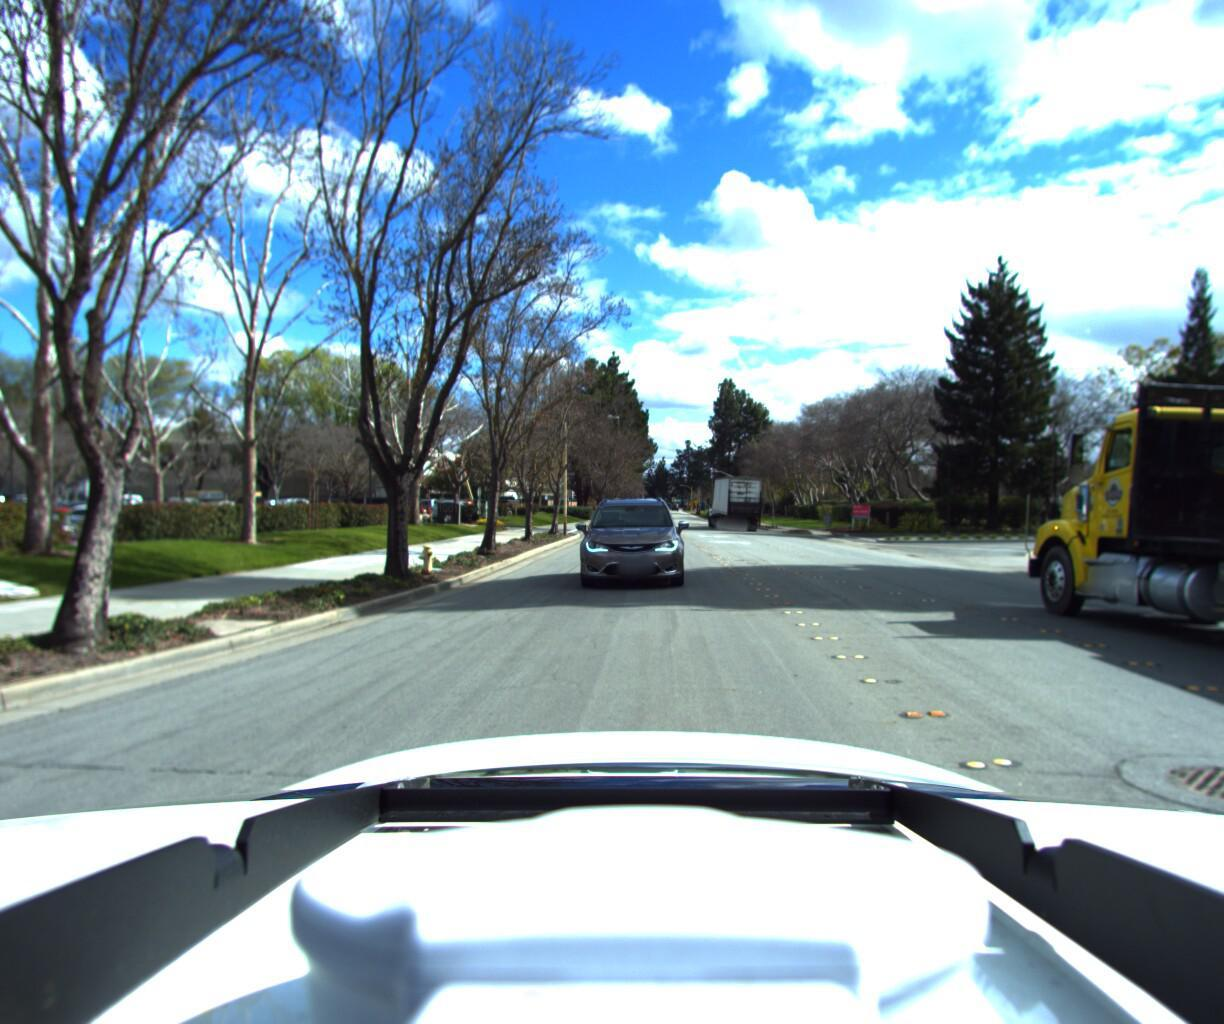car: (571, 496, 685, 600)
truck: (701, 481, 763, 540)
